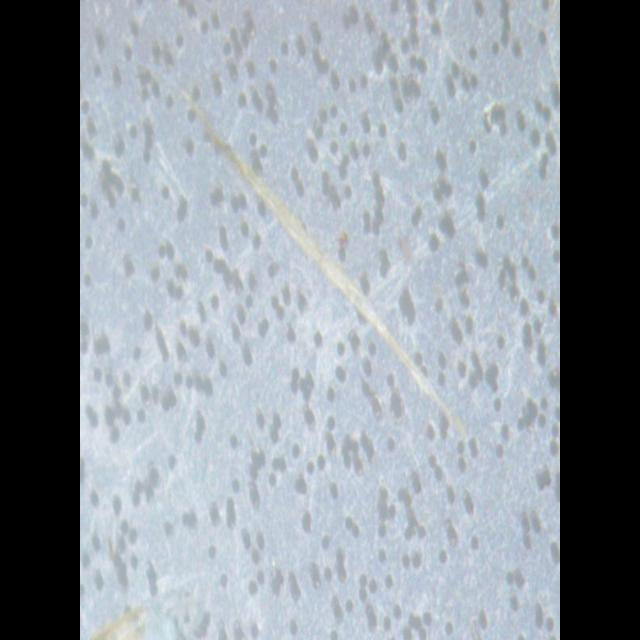Fibre: (175, 89, 462, 448)
